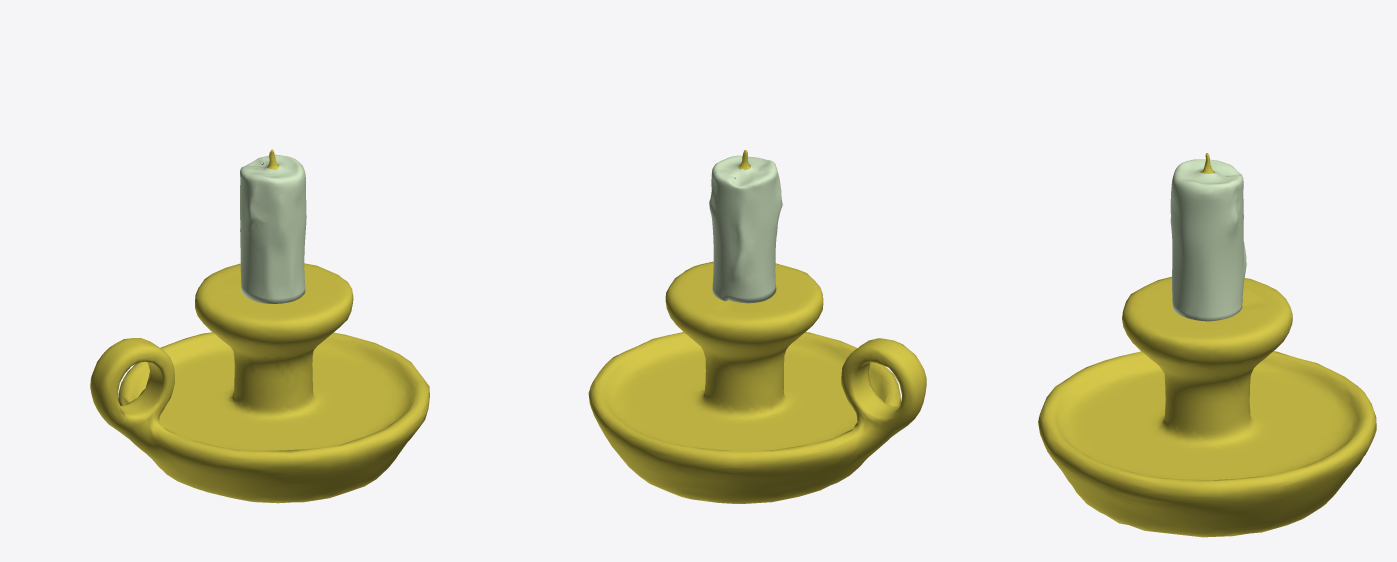
The model's file is veladora.fbx.
3 renders of one model, left to right at view 1: azimuth 30°, elevation 25°; view 2: azimuth 150°, elevation 25°; view 3: azimuth 270°, elevation 25°, orthographic. The views are drawn at different scales.
Visible parts, largest first — view 1: Cylinder, Cylinder.001; view 2: Cylinder, Cylinder.001; view 3: Cylinder, Cylinder.001.
Part boxes in pixels (x1,y1,x2,y2): Cylinder: [90, 263, 429, 503]; Cylinder.001: [240, 154, 306, 303]; Cylinder: [588, 261, 926, 503]; Cylinder.001: [709, 155, 782, 303]; Cylinder: [1038, 276, 1376, 537]; Cylinder.001: [1170, 159, 1246, 321].
Size of the model in its own units: 182 by 190 by 160.
